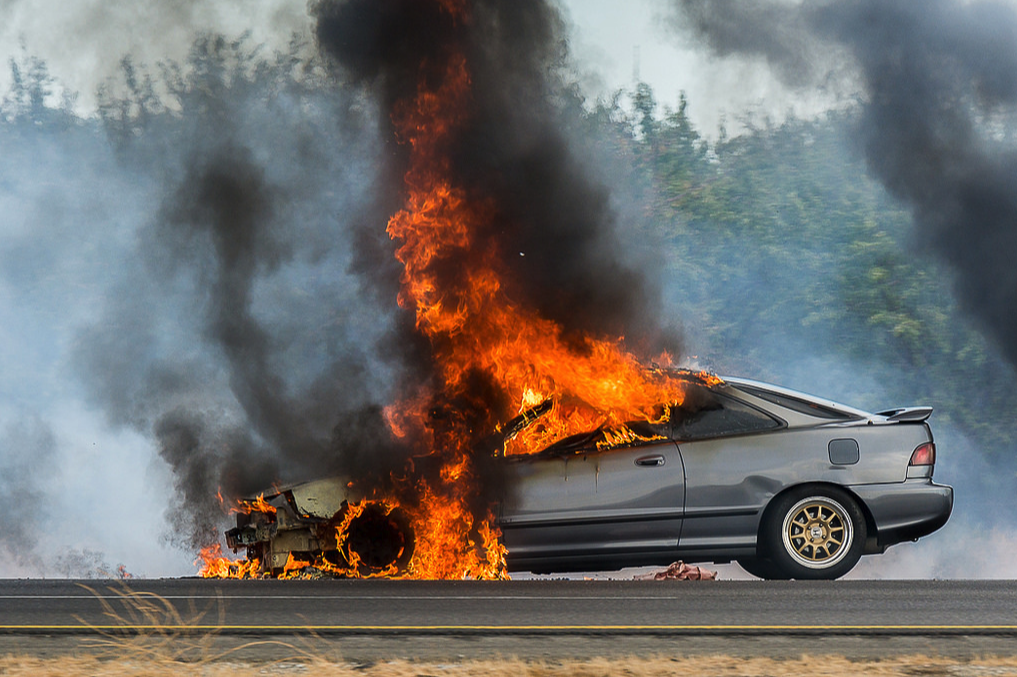fire: (324, 194, 662, 563)
